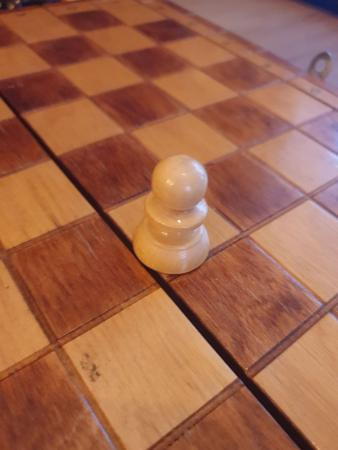wpawn: (133, 156, 211, 275)
